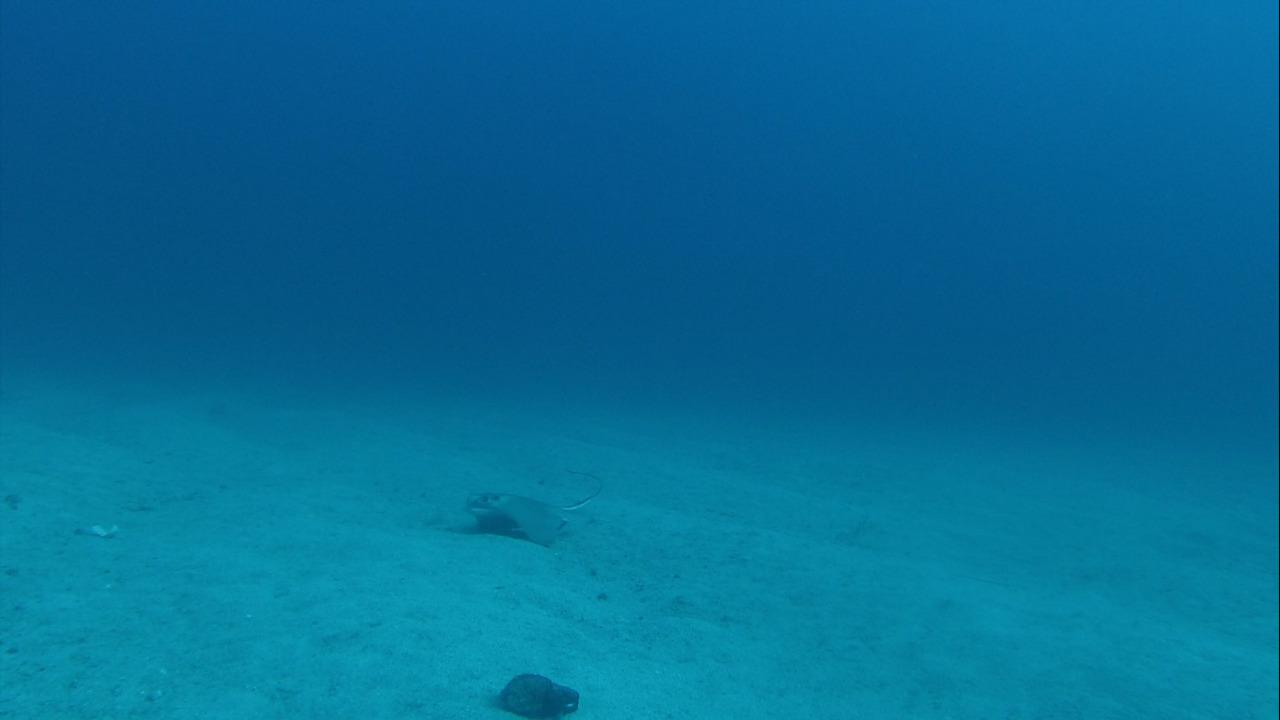myliobatis: (460, 475, 601, 550)
